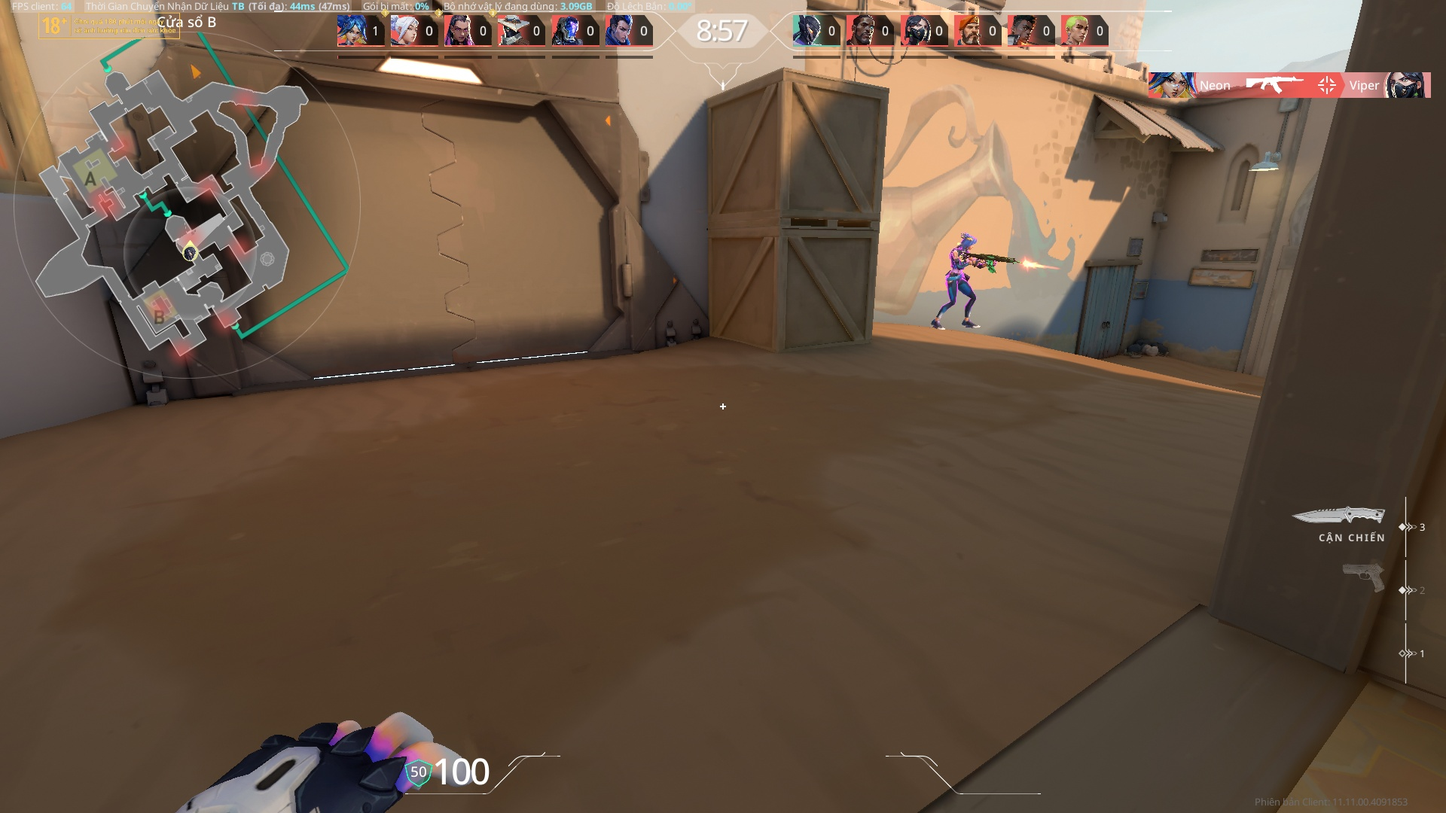body: (947, 245, 975, 281)
head: (958, 230, 975, 254)
